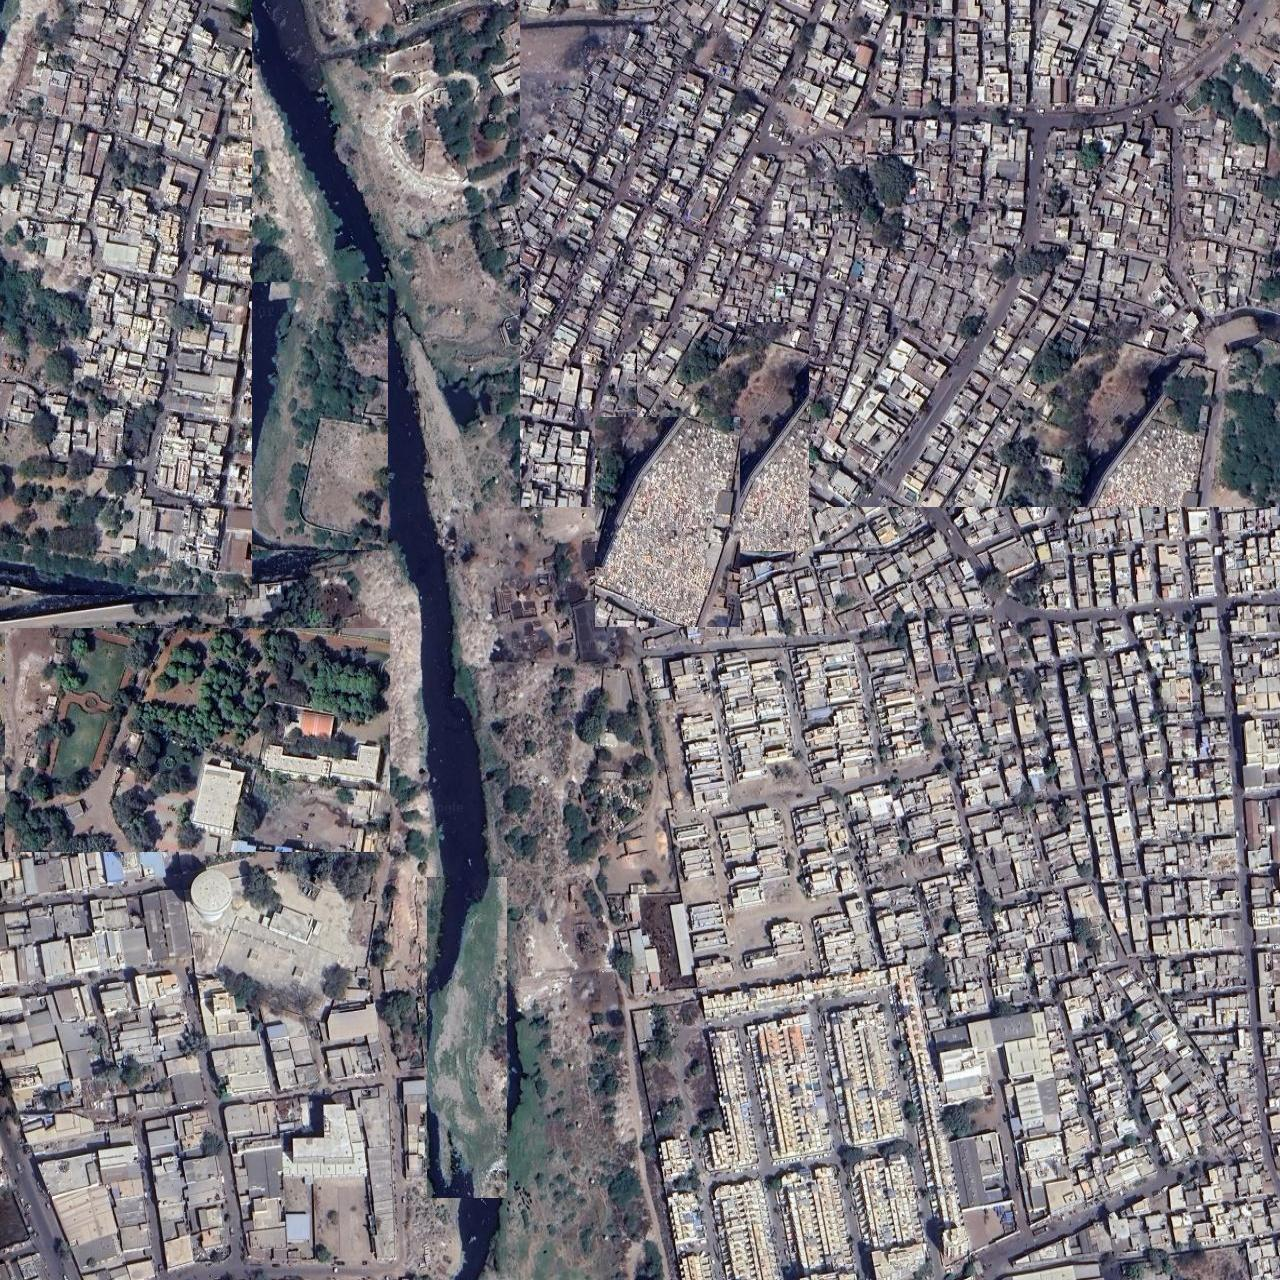greenery: (450, 505, 662, 1280), (360, 5, 578, 506), (5, 628, 390, 852), (638, 322, 809, 551), (252, 282, 388, 550), (428, 877, 508, 1198), (163, 240, 302, 355)
house: (651, 642, 1280, 1280), (520, 0, 1280, 508), (0, 760, 402, 1280), (651, 414, 1280, 653), (0, 0, 252, 595), (975, 605, 1280, 715), (595, 417, 740, 627)
water: (247, 0, 523, 1279)
